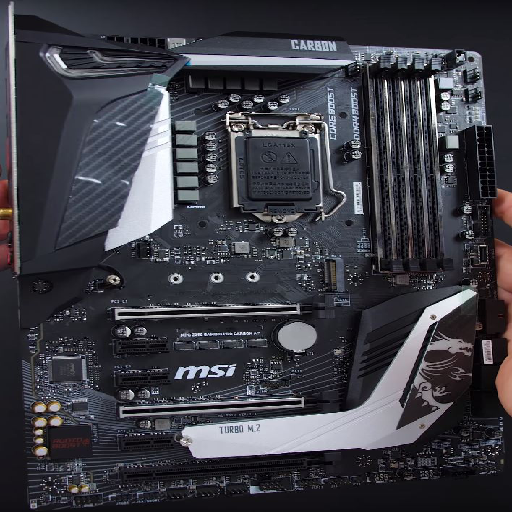CPU: (225, 113, 335, 224)
GPU: (116, 393, 337, 416), (111, 302, 337, 324)
MOTHERBOARD: (10, 4, 505, 499)
RAM: (359, 53, 456, 279), (321, 257, 345, 293)
